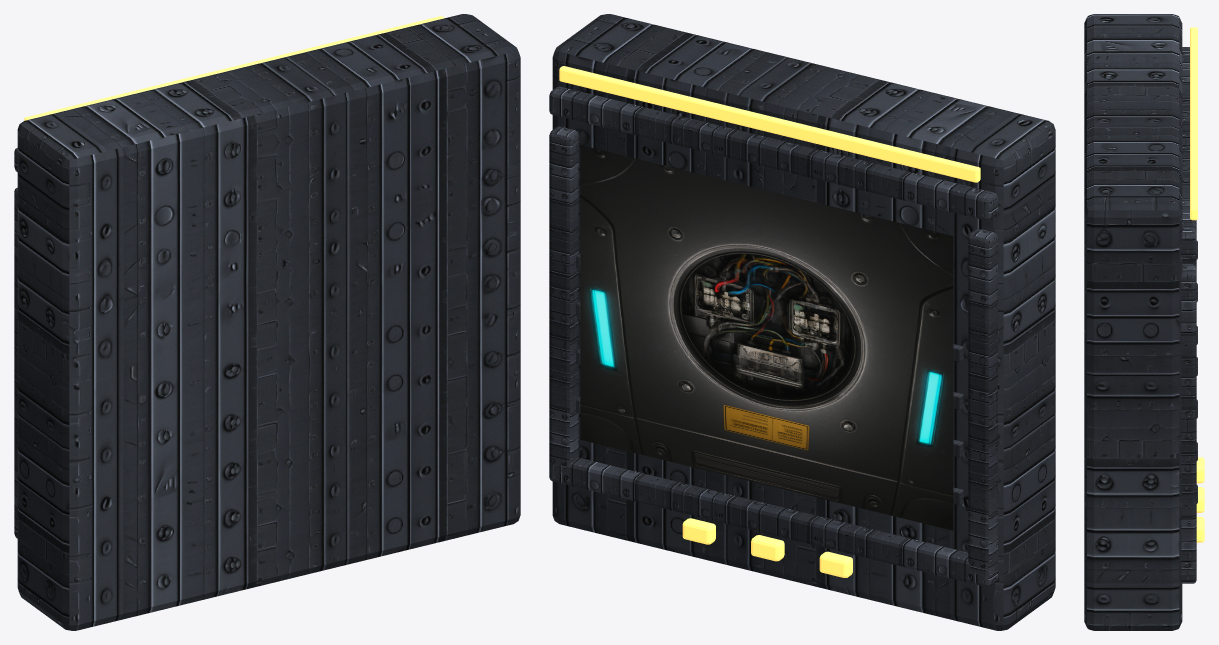
Rendered from device_panel_fix.glb.
3 views of the same model, side by side, from view 1: azimuth 30°, elevation 25°; view 2: azimuth 150°, elevation 25°; view 3: azimuth 270°, elevation 25° (orthographic). The views are drawn at different scales.
Visible parts, largest first — view 1: cabinet, stripe, bezel_left; view 2: display, cabinet, bezel_top, bezel_bottom, bezel_left, bezel_right, stripe, btn_1, btn_2, btn_0; view 3: cabinet, bezel_right, bezel_top, stripe, btn_2, btn_0, bezel_bottom, btn_1.
Part boxes in pixels (<box>): cabinet: <box>17,14,520,630</box>; stripe: <box>24,16,444,120</box>; bezel_left: <box>14,187,17,528</box>; display: <box>580,145,953,530</box>; cabinet: <box>552,14,1055,630</box>; bezel_top: <box>549,86,997,220</box>; bezel_bottom: <box>549,457,997,586</box>; bezel_left: <box>968,228,997,576</box>; bezel_right: <box>549,126,578,474</box>; stripe: <box>559,66,980,182</box>; btn_1: <box>751,535,784,561</box>; btn_2: <box>682,518,715,544</box>; btn_0: <box>819,551,852,577</box>; cabinet: <box>1084,14,1182,630</box>; bezel_right: <box>1181,264,1196,574</box>; bezel_top: <box>1181,47,1196,257</box>; stripe: <box>1190,27,1197,220</box>; btn_2: <box>1196,516,1204,542</box>; btn_0: <box>1196,457,1204,483</box>; bezel_bottom: <box>1181,566,1196,583</box>; btn_1: <box>1196,487,1204,512</box>.
Size of the model in its own units: 1.2 by 1.2 by 0.3075.
Materials: 4 (3 with a texture image).
